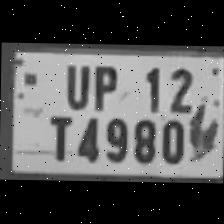0: (156, 113, 186, 163)
1: (135, 60, 164, 111)
2: (162, 62, 195, 110)
4: (71, 110, 100, 161)
8: (128, 113, 157, 164)
9: (99, 112, 128, 162)
P: (87, 58, 120, 110)
T: (41, 107, 74, 161)
U: (58, 58, 90, 107)
